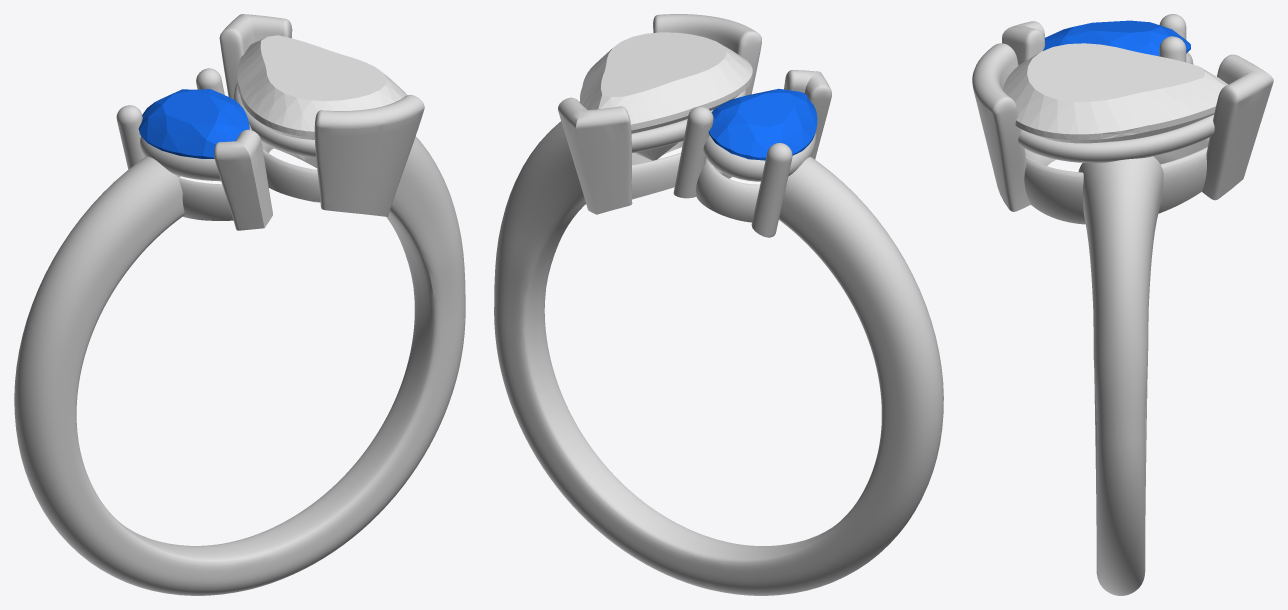
File: NicV7tem_blender.glb
The picture shows the model from 3 angles, left to right: view 1: azimuth 30°, elevation 25°; view 2: azimuth 150°, elevation 25°; view 3: azimuth 270°, elevation 25°; orthographic projection. The views are drawn at different scales.
Parts seen in each view (by area): view 1: V7 PT for 3d model, V5 Nicolas center diamond for 3d model, V5 Nicolas sapphire for 3d model; view 2: V7 PT for 3d model, V5 Nicolas center diamond for 3d model, V5 Nicolas sapphire for 3d model; view 3: V7 PT for 3d model, V5 Nicolas center diamond for 3d model, V5 Nicolas sapphire for 3d model.
Boxes of the visible parts, x1,y1,x2,y2 form: V7 PT for 3d model: (14, 14, 465, 595); V5 Nicolas center diamond for 3d model: (237, 35, 407, 159); V5 Nicolas sapphire for 3d model: (138, 89, 249, 158); V7 PT for 3d model: (494, 14, 943, 595); V5 Nicolas center diamond for 3d model: (580, 32, 752, 160); V5 Nicolas sapphire for 3d model: (708, 88, 817, 160); V7 PT for 3d model: (972, 14, 1273, 595); V5 Nicolas center diamond for 3d model: (1003, 43, 1227, 143); V5 Nicolas sapphire for 3d model: (1043, 20, 1190, 56).
Bounding box in the file's own units: 19.92 × 21.93 × 11.15.
